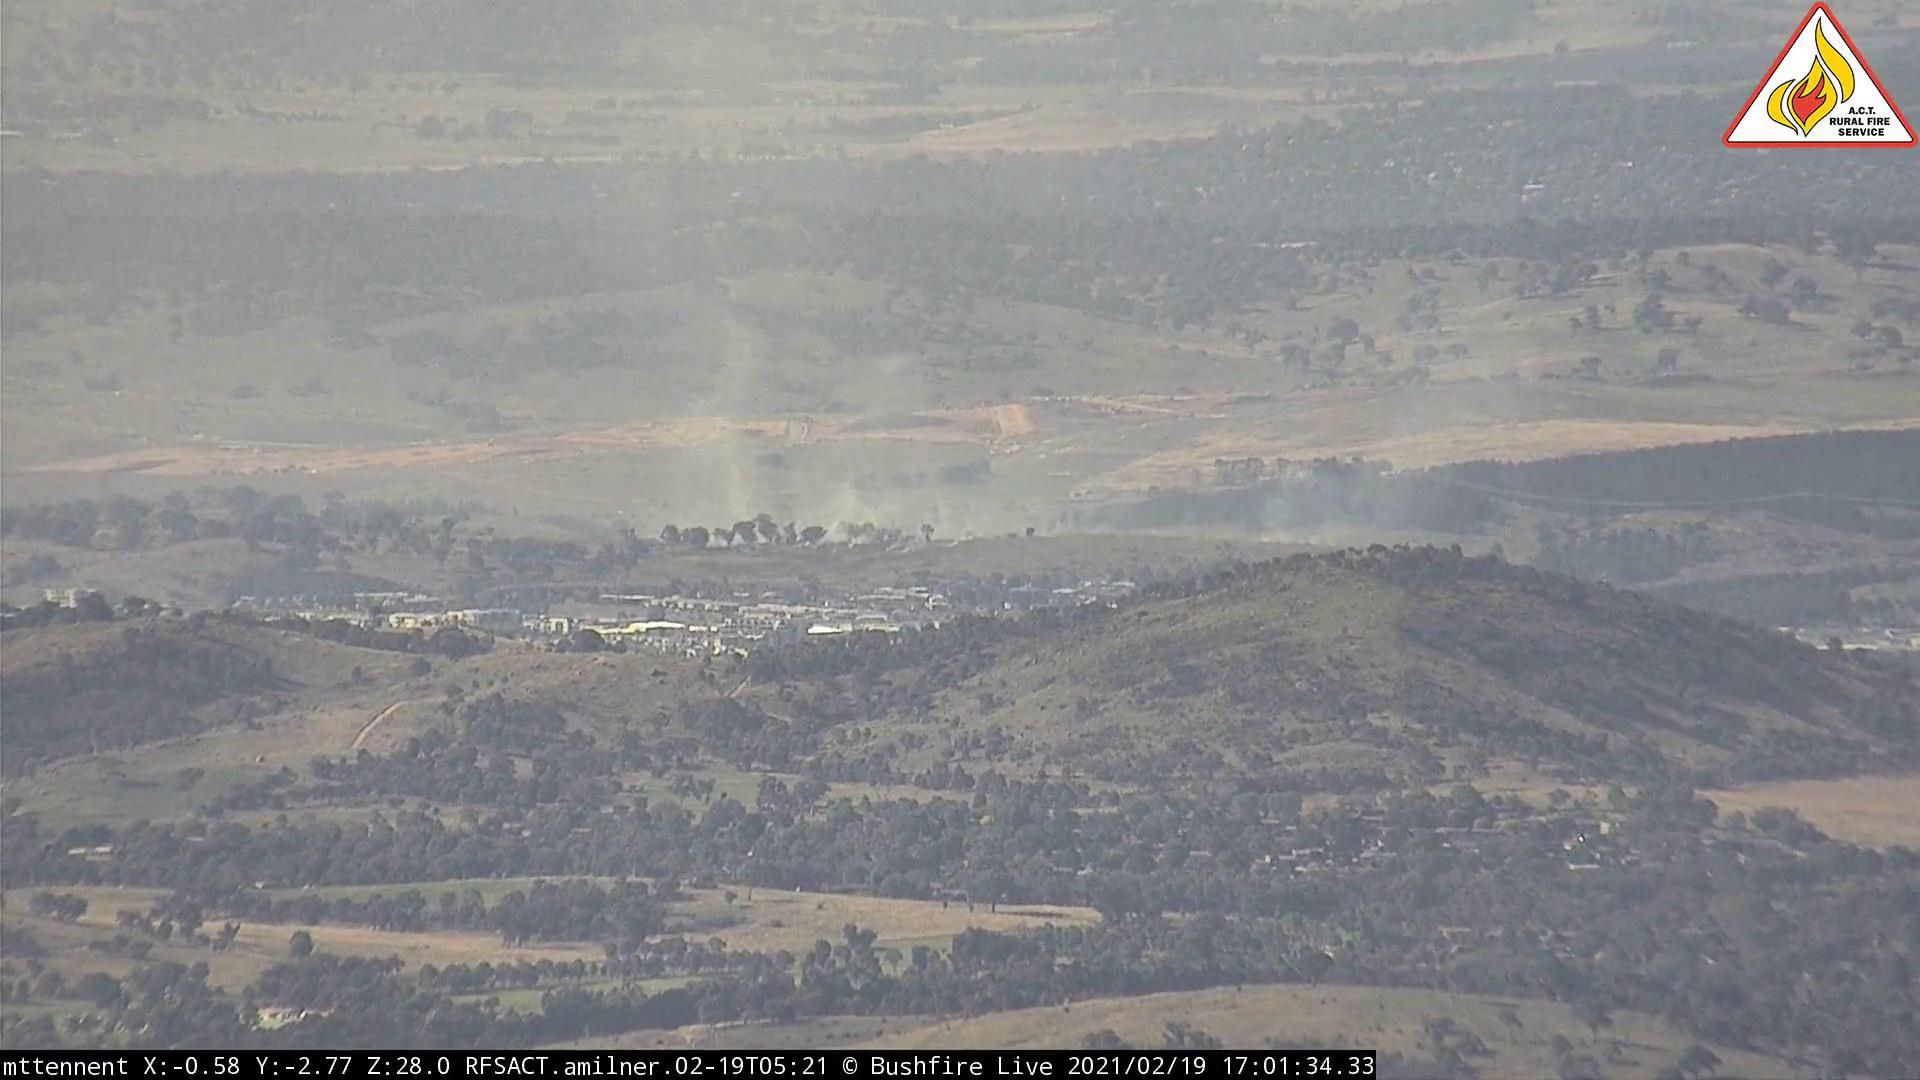instance_salient_object: (659, 309, 1030, 550), (1254, 400, 1487, 546)
